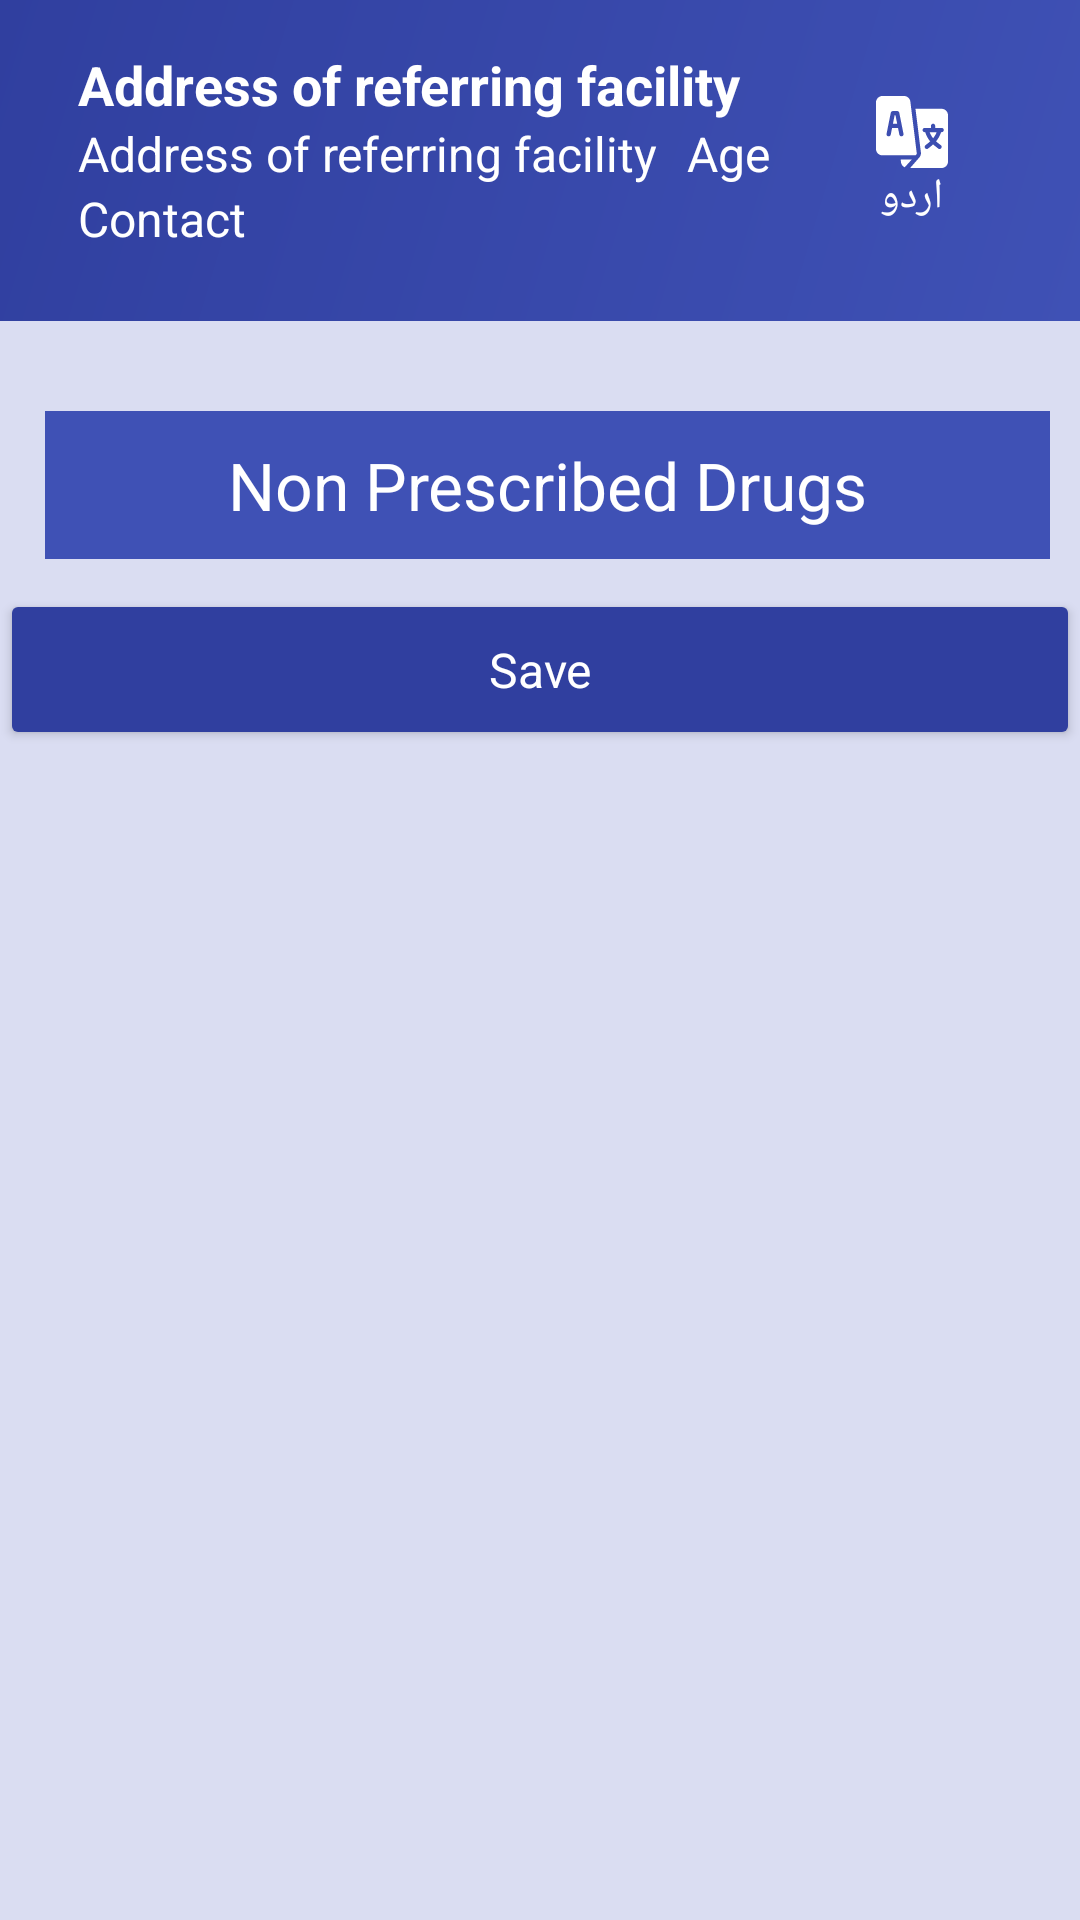

Screen size 1080×1920. Icon name, then its center in pixels as [x,y]:
language: [912,132]
